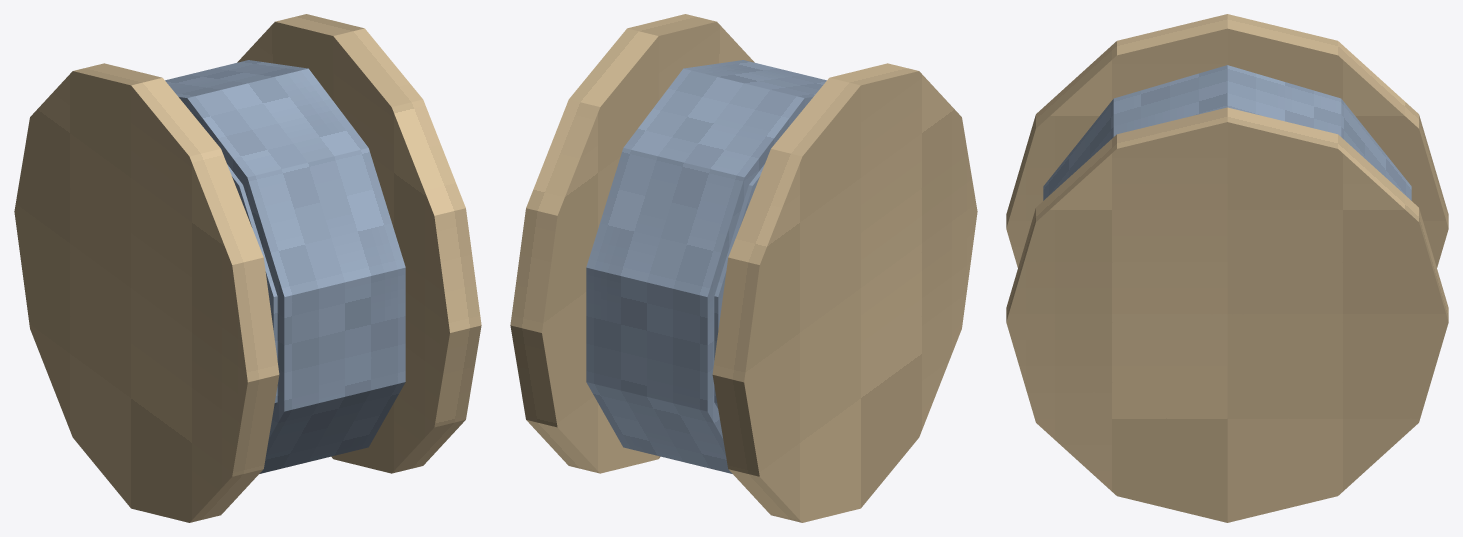
Rendered from pixel-modern-office-cable-spool-b02ad094.glb.
The picture shows the model from 3 angles, left to right: view 1: azimuth 30°, elevation 25°; view 2: azimuth 150°, elevation 25°; view 3: azimuth 270°, elevation 25°; orthographic projection. The views are drawn at different scales.
Visible parts, largest first — view 1: cable-spool; view 2: cable-spool; view 3: cable-spool.
Part boxes in pixels (left/top/right/bottom): cable-spool: left=14, top=14, right=481, bottom=522; cable-spool: left=510, top=14, right=977, bottom=522; cable-spool: left=1006, top=14, right=1448, bottom=522.
Bounding box in the file's own units: 0.37 × 0.64 × 0.64.
Materials: 3 (3 with a texture image).
